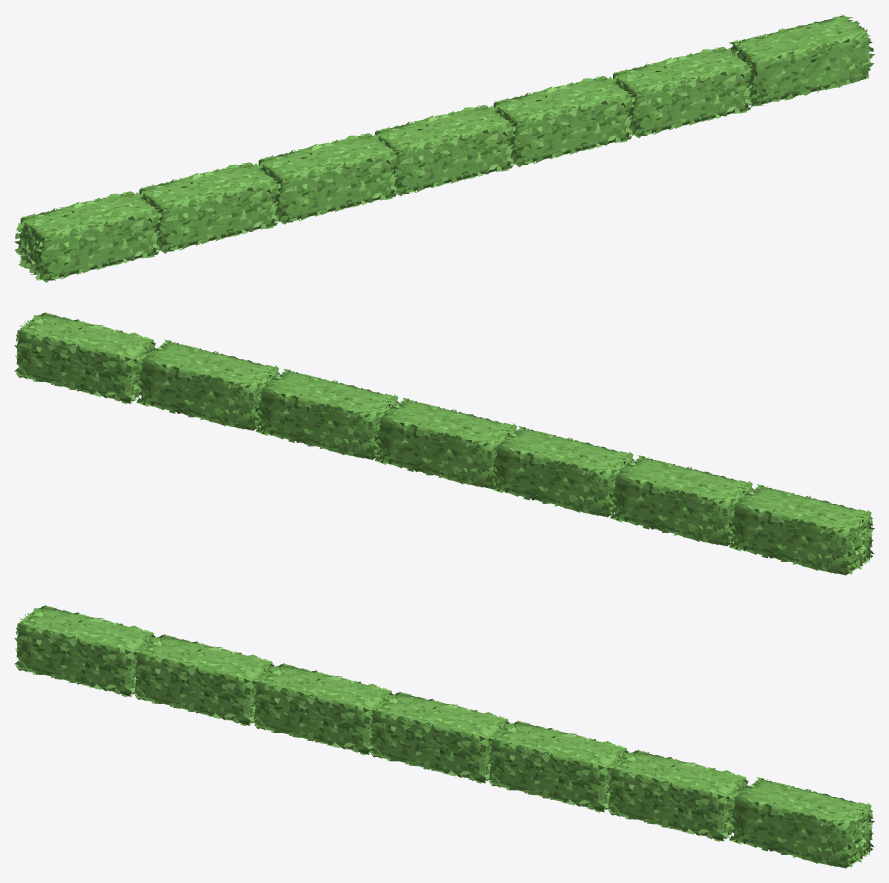
File: BUSH10.fbx
3 renders of one model, top to bottom at view 1: azimuth 30°, elevation 25°; view 2: azimuth 150°, elevation 25°; view 3: azimuth 330°, elevation 25°, orthographic.
Parts seen in each view (by area): view 1: Cube.106; view 2: Cube.106; view 3: Cube.106.
Boxes of the visible parts, left/top/right/bottom form: Cube.106: left=14, top=14, right=874, bottom=282; Cube.106: left=14, top=312, right=874, bottom=575; Cube.106: left=14, top=605, right=874, bottom=868.
Size of the model in its own units: 26029 by 1469 by 1581.
